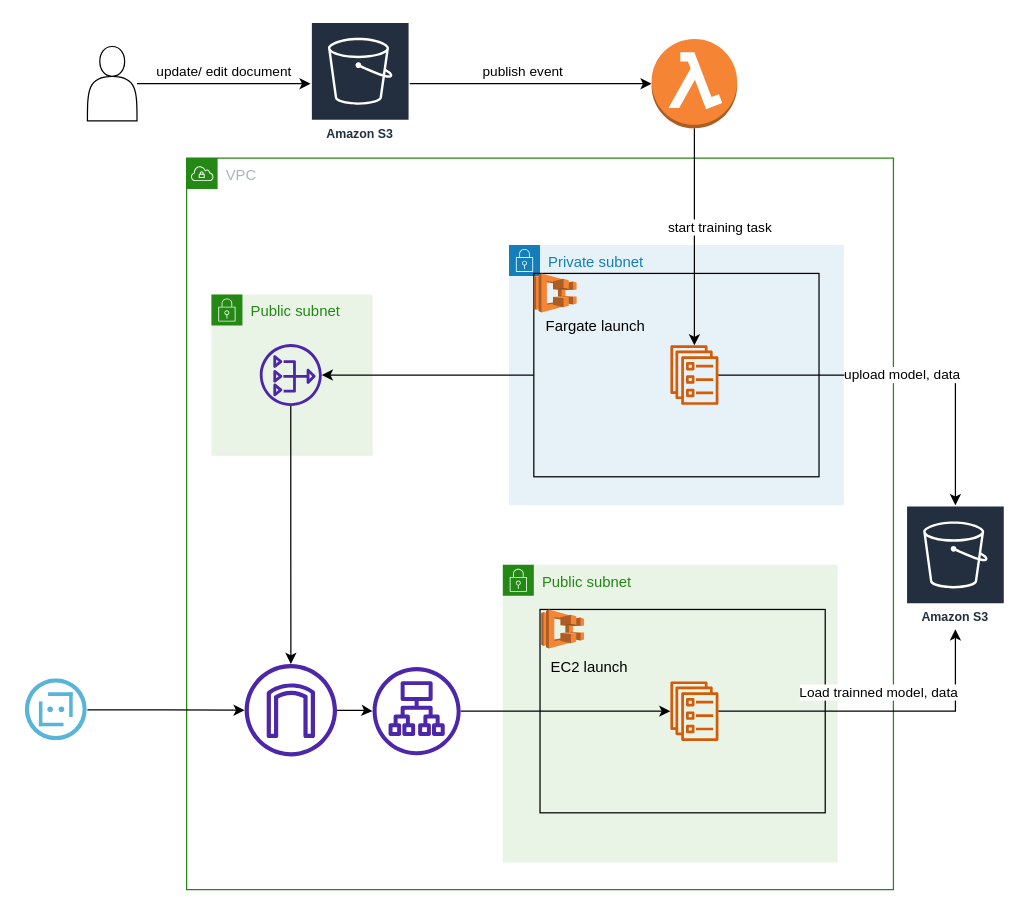
Some shapes in this 1027 by 911 pixel diagram are drawn without their labels. Each missing label, with the box of its shape:
service chatbot: (670, 681, 718, 740)
Teams Bot: (25, 678, 87, 740)
Traning task: (670, 345, 718, 404)
